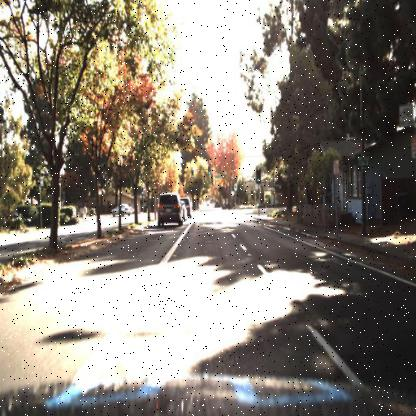car: (156, 192, 184, 226), (110, 203, 135, 219), (108, 202, 133, 216), (182, 196, 192, 221), (187, 195, 193, 220), (182, 194, 187, 223)
trafficLight: (255, 171, 262, 187)
trafficLight-Green: (255, 172, 262, 187), (206, 166, 212, 182), (190, 169, 195, 184), (207, 162, 211, 176)
trafficLight-GreenLeft: (190, 170, 195, 182)
